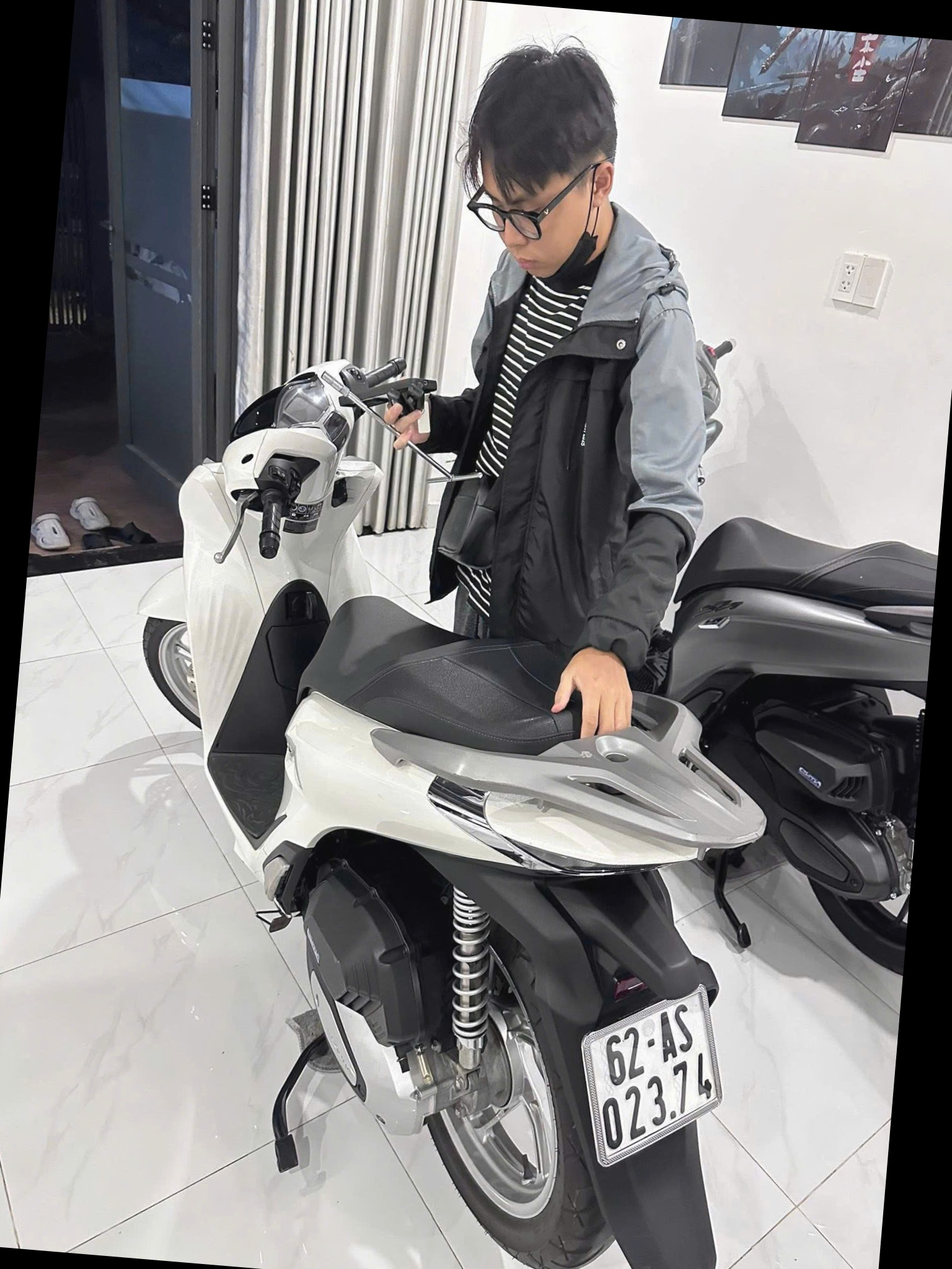Bien-so: (609, 981, 776, 1160)
